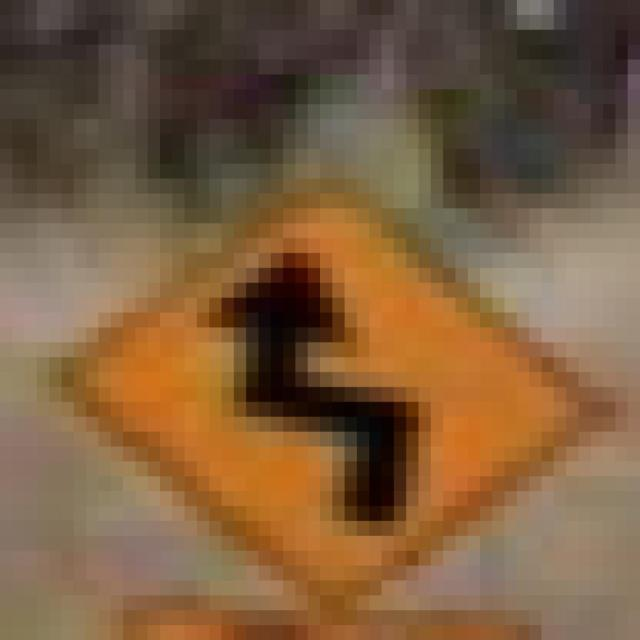Tikungan Ganda Pertama Ke Kiri: (25, 134, 603, 625)
